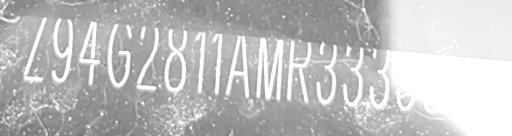letter: (108, 15, 136, 91), (77, 15, 105, 89), (224, 30, 254, 99), (162, 20, 190, 92), (253, 32, 283, 98), (20, 9, 46, 82), (286, 33, 312, 103), (136, 18, 160, 92), (51, 12, 75, 84), (342, 37, 366, 106), (421, 45, 445, 114), (448, 47, 472, 114), (314, 37, 338, 103), (395, 43, 417, 112), (370, 39, 388, 108), (191, 24, 207, 93), (210, 28, 226, 95)
